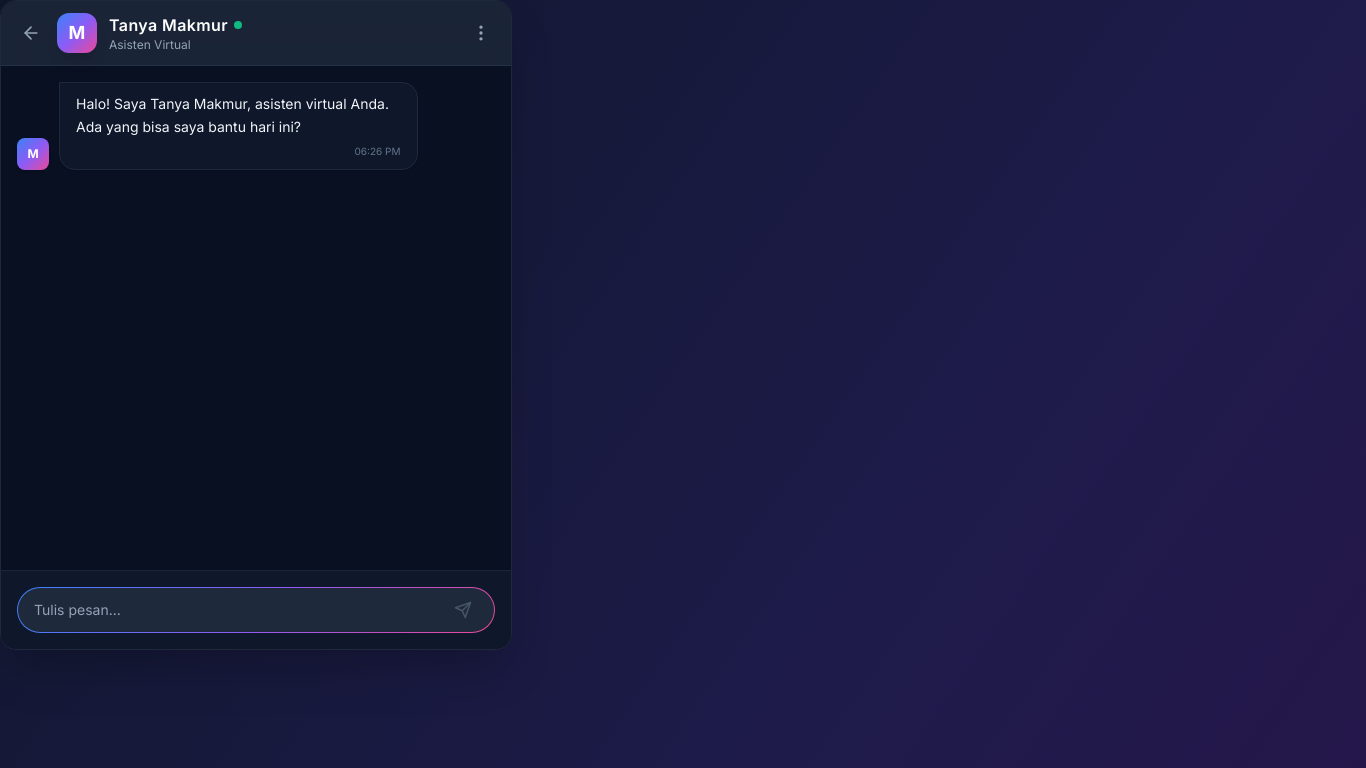
it: ChatInterface Component › displays loading state and new placeholder when a message is sent
The width and height of the screenshot is (1366, 768).
Step 1. Type "Berapa saldo saya?" into the field with placeholder "Tulis pesan..." → coordinates (237, 610), box [34,594,440,626]
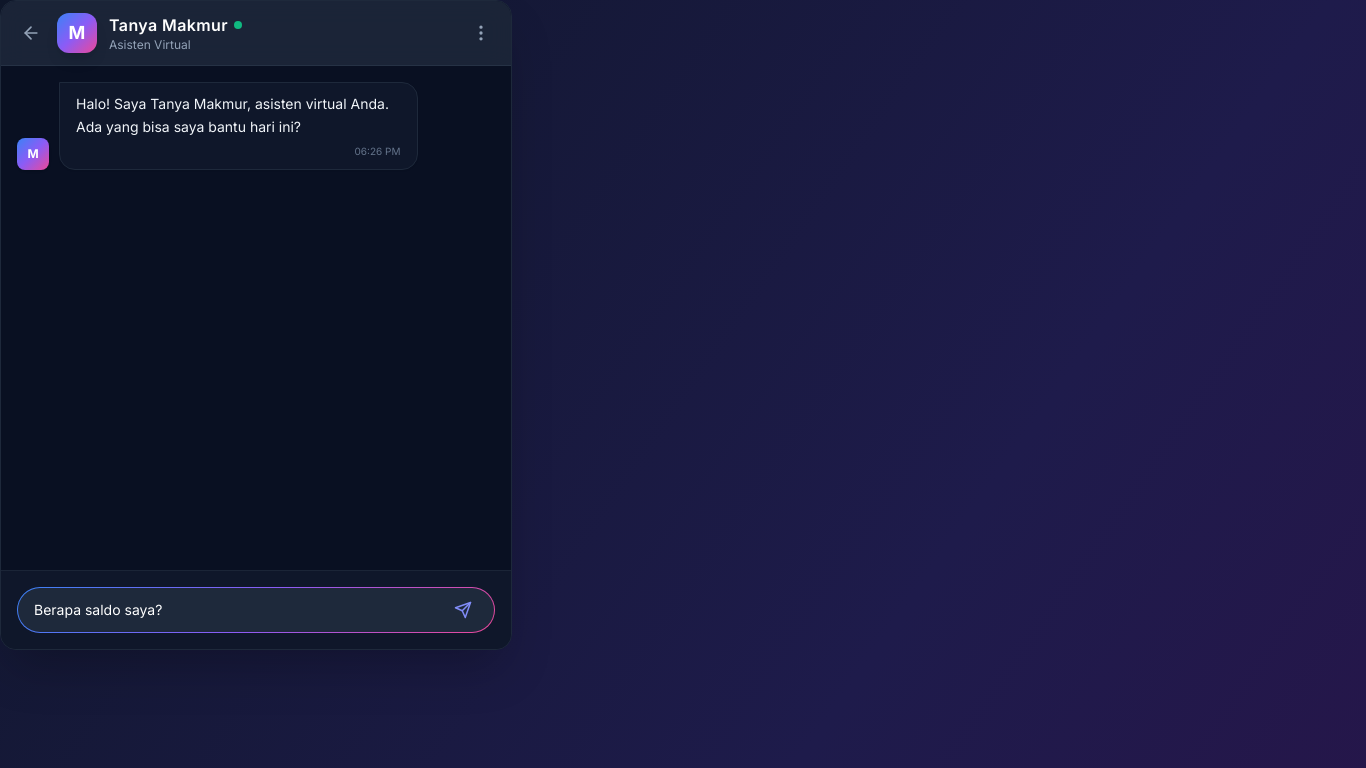
Step 2. Submit the form with placeholder "Tulis pesan...", box [17,587,495,633]
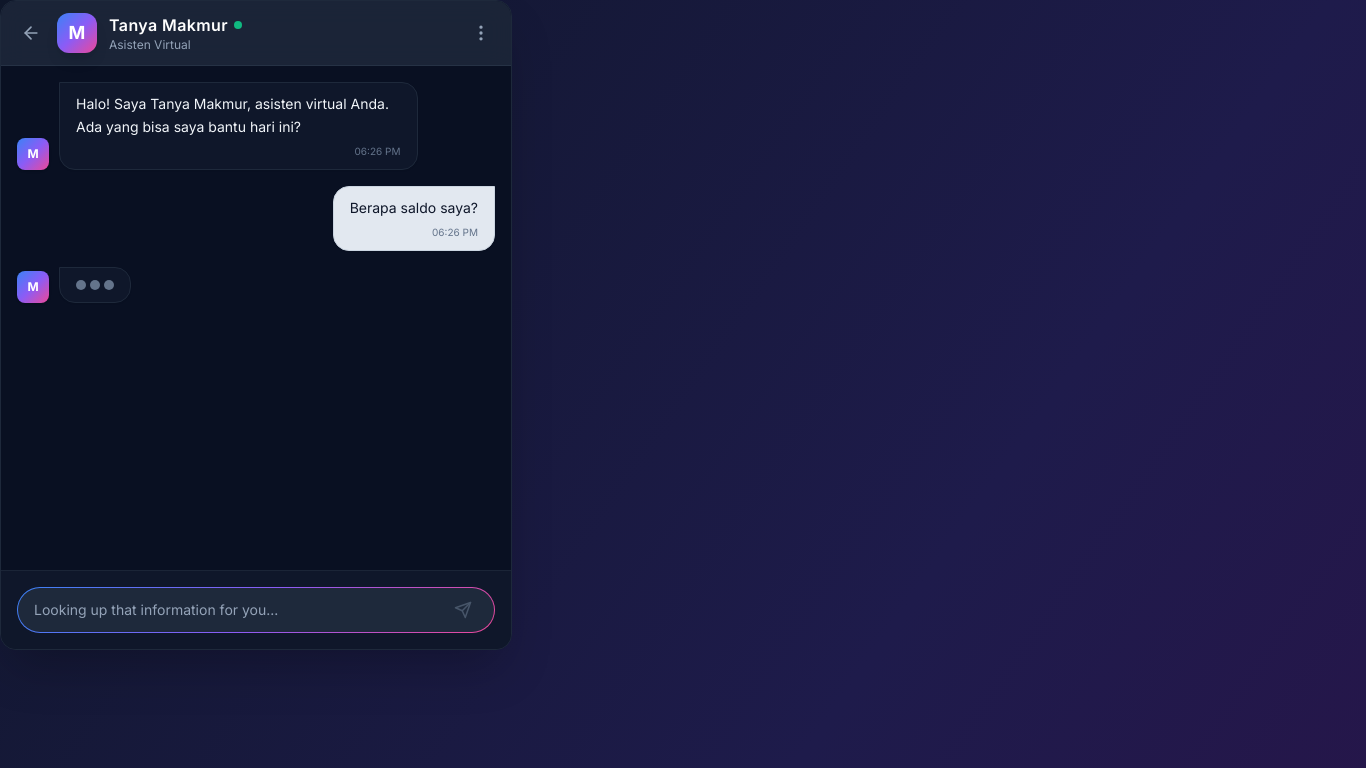
Expected: the text "Berapa saldo saya?" is shown, [350,197,478,220]
Expected: the field with placeholder "Tulis pesan..." is disabled, [34,594,440,626]
